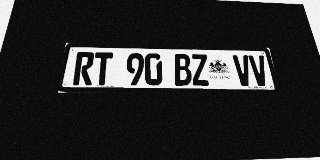0: (145, 53, 162, 85)
9: (126, 53, 144, 85)
B: (173, 54, 192, 86)
R: (72, 52, 95, 85)
T: (92, 52, 113, 85)
V: (248, 55, 270, 86), (232, 55, 253, 86)
Z: (190, 54, 210, 86)
